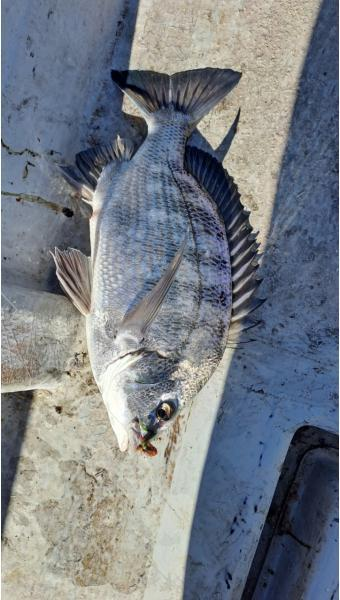fish: (51, 66, 269, 455)
